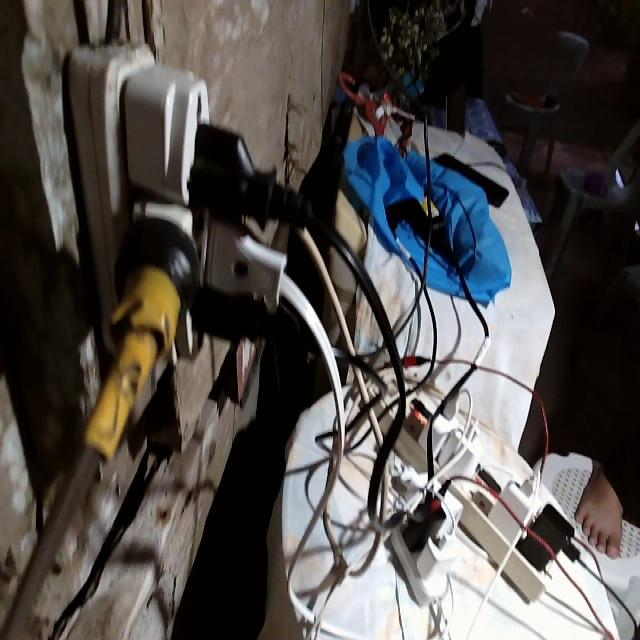-: (58, 38, 307, 366)
